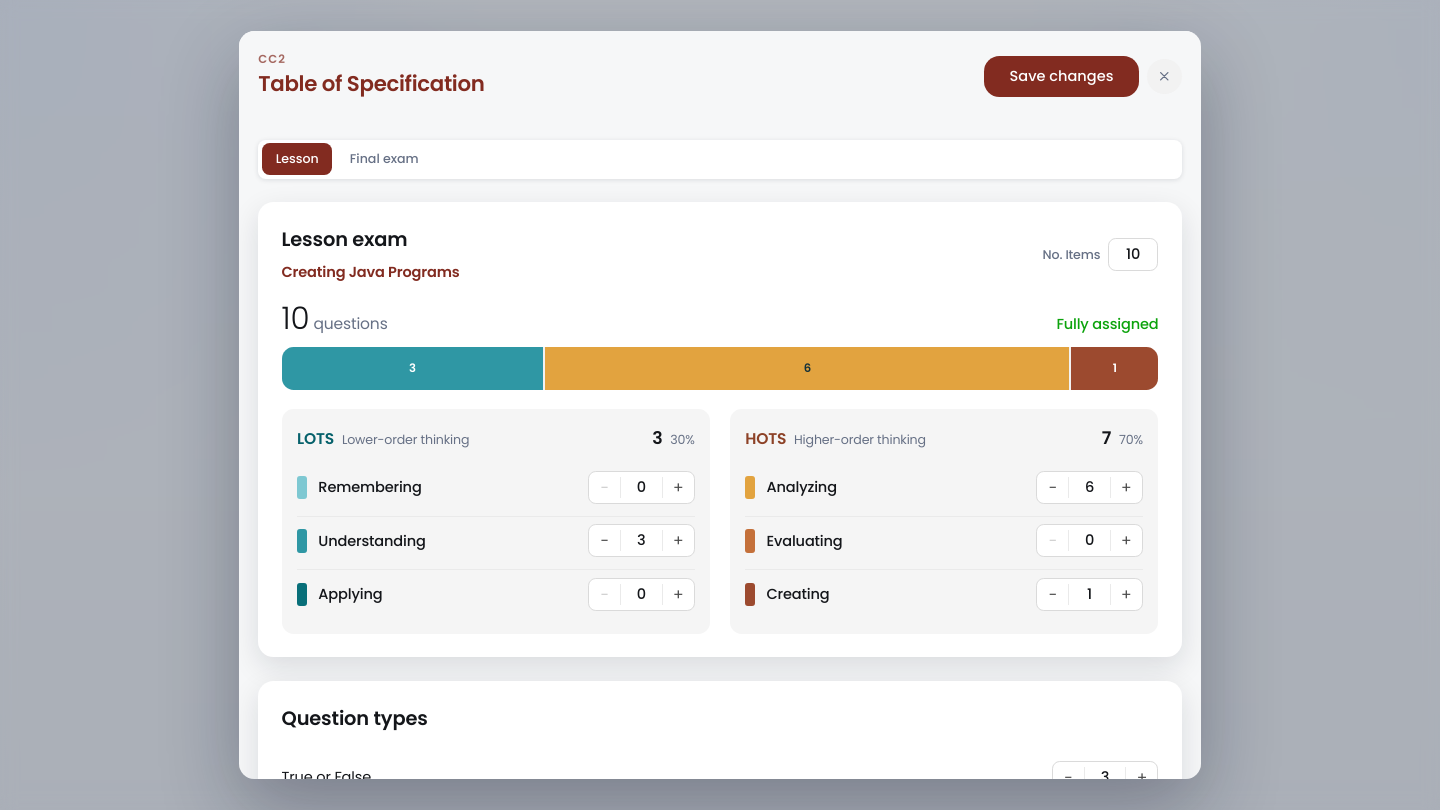
Test: A failed save › keeps the reason on screen after the button resets
Click the button "Save changes".
click(1062, 77)  # box top-left (984, 56), bottom-right (1139, 97)
Wait 2500 ms
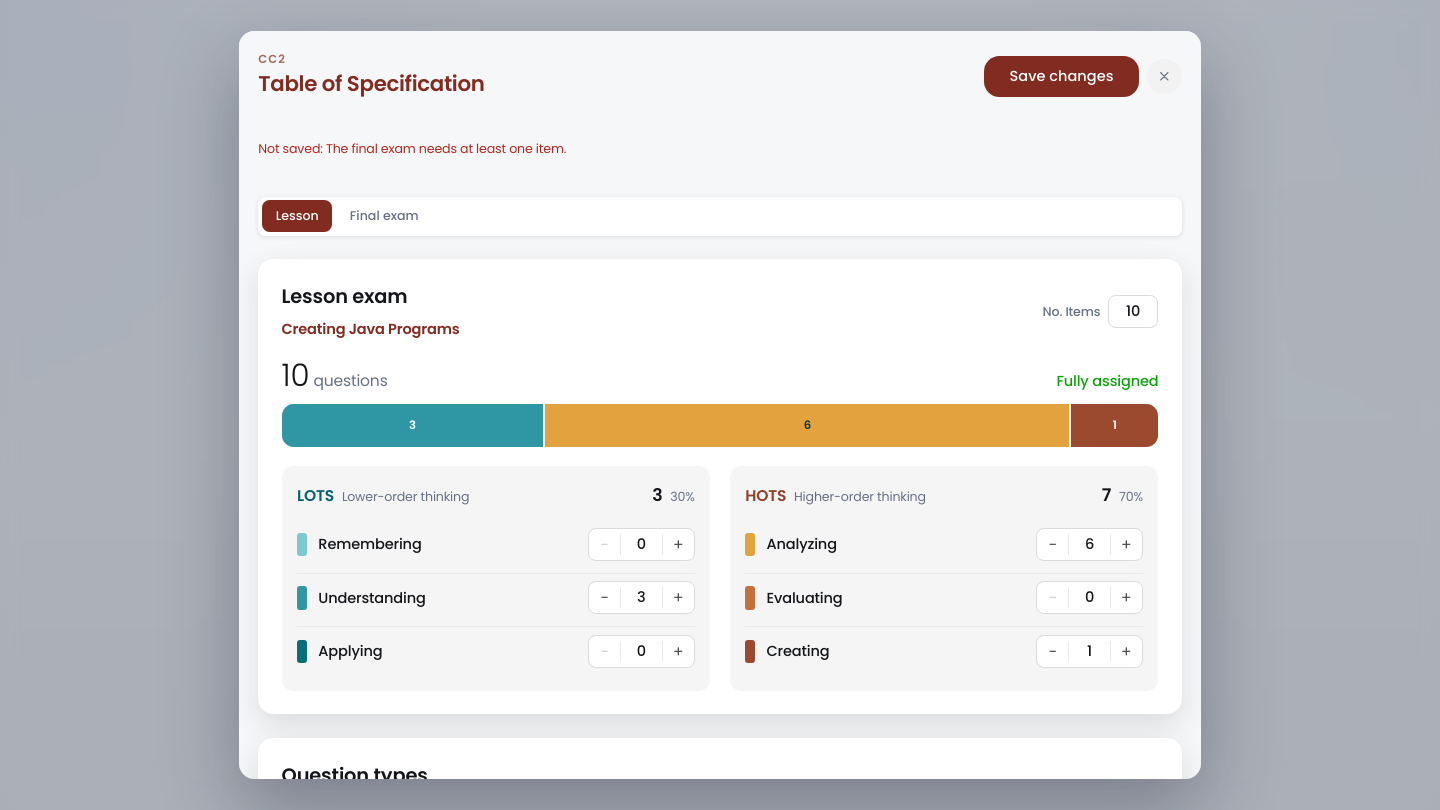
Check: the message reads "Not saved: The final exam needs at least one item.", box top-left (258, 140), bottom-right (566, 156)
